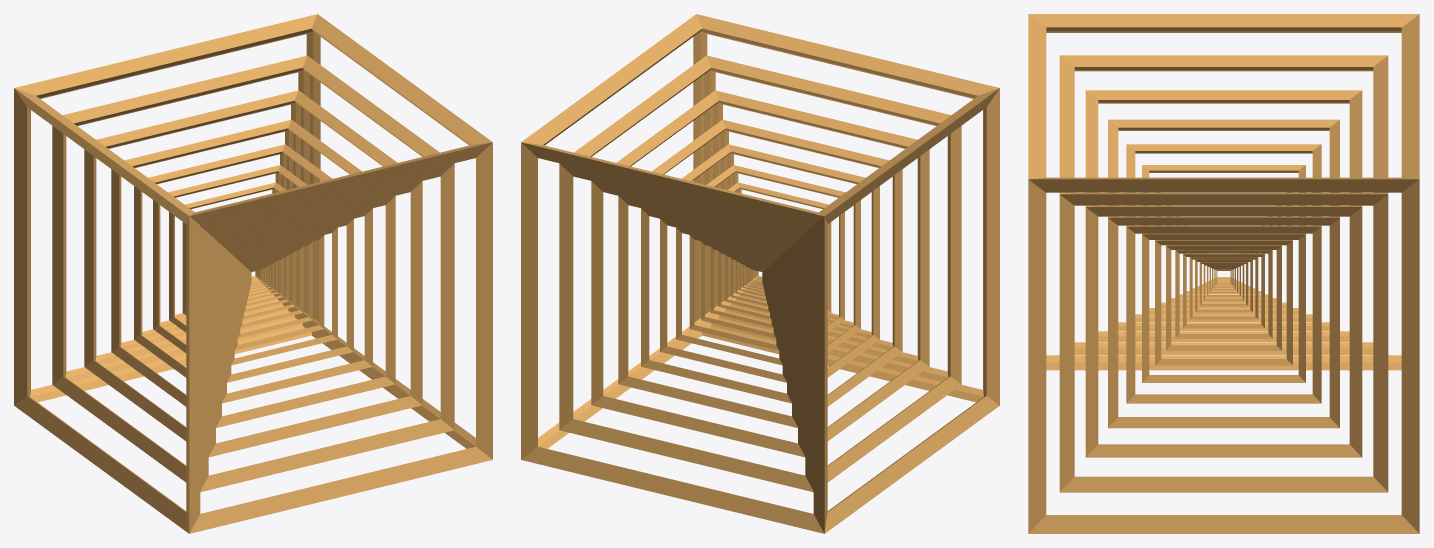
File: array-three2.glb
The picture shows the model from 3 angles, left to right: view 1: azimuth 30°, elevation 25°; view 2: azimuth 150°, elevation 25°; view 3: azimuth 270°, elevation 25°; orthographic projection. The views are drawn at different scales.
Parts seen in each view (by area): view 1: Cube; view 2: Cube; view 3: Cube.
Boxes of the visible parts, x1=… form: Cube: x1=14, y1=14, x2=492, y2=533; Cube: x1=521, y1=14, x2=999, y2=533; Cube: x1=1028, y1=14, x2=1419, y2=533.
Size of the model in its own units: 52.02 by 52.02 by 52.02.
